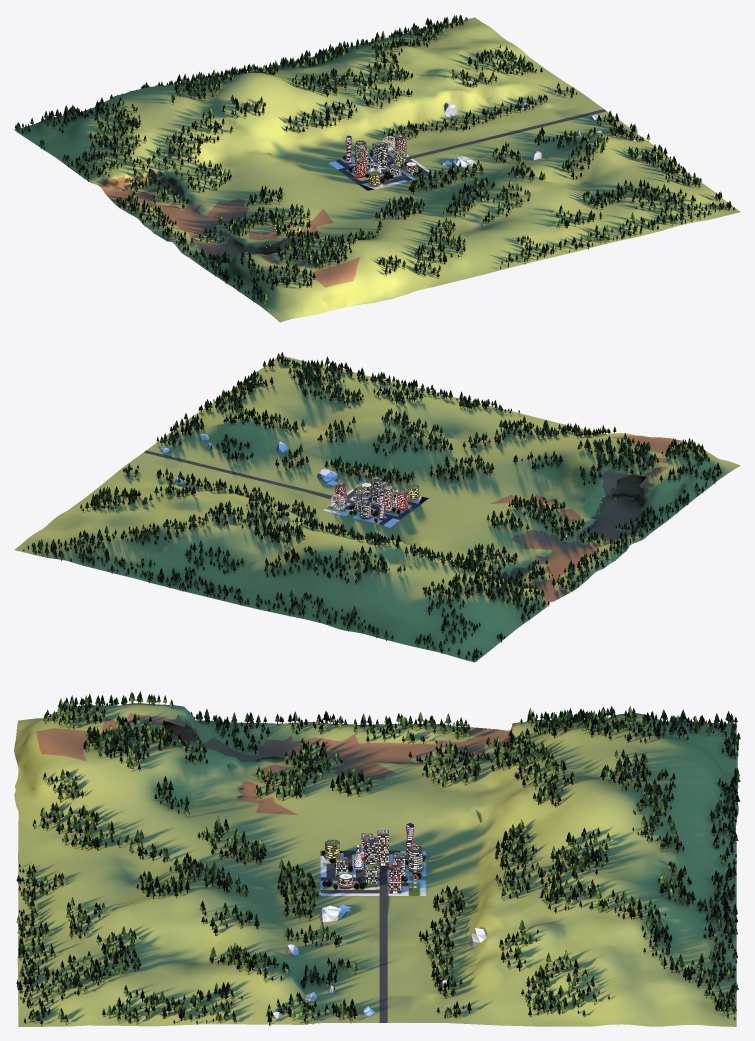
Rendered from isometric-cityscape6.glb.
3 views of the same model, one above another, from view 1: azimuth 30°, elevation 25°; view 2: azimuth 150°, elevation 25°; view 3: azimuth 270°, elevation 25° (orthographic). The views are drawn at different scales.
Visible parts, largest first — view 1: Vegetation.001, Arvores, CityBase.001; view 2: Vegetation.001, Arvores, CityBase.001; view 3: Vegetation.001, Arvores, CityBase.001.
Boxes of the visible parts, <box> form: Vegetation.001: <box>14,17,740,322</box>; Arvores: <box>15,14,734,305</box>; CityBase.001: <box>336,102,640,184</box>; Vegetation.001: <box>14,355,740,662</box>; Arvores: <box>23,352,722,662</box>; CityBase.001: <box>144,419,420,524</box>; Vegetation.001: <box>14,703,738,1026</box>; Arvores: <box>16,691,740,1025</box>; CityBase.001: <box>271,850,486,1022</box>.
Bounding box in the file's own units: 67.75 × 7.13 × 67.76.
36 materials, 10 textured.
